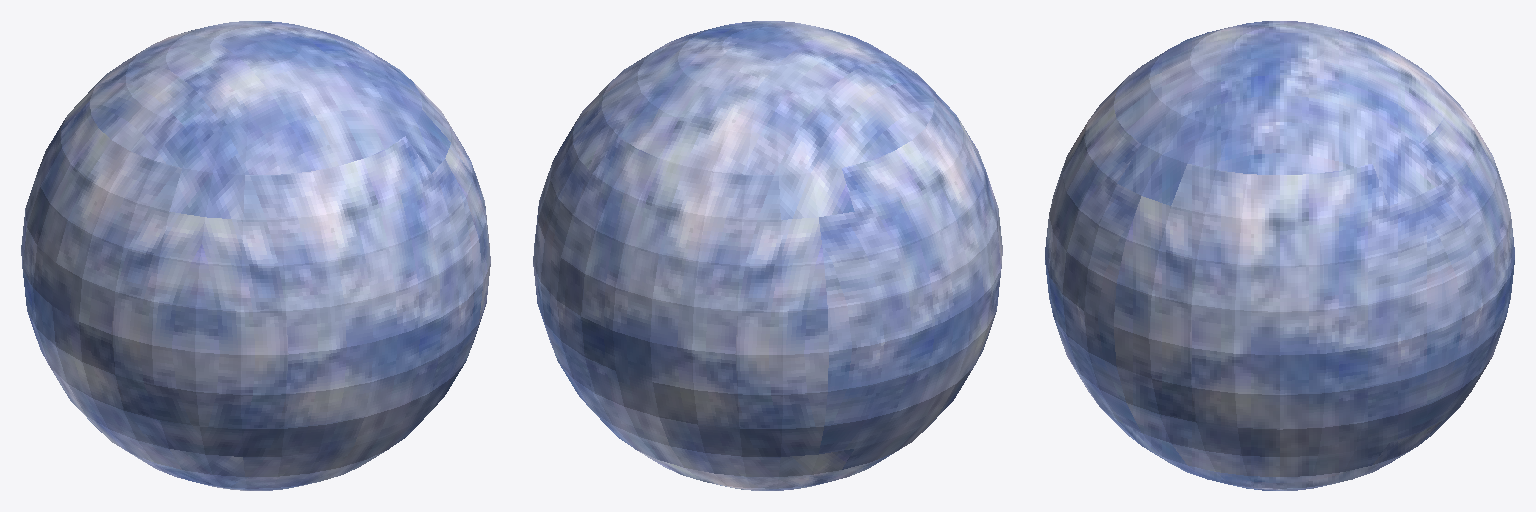
3 views of the same model, side by side, from view 1: azimuth 30°, elevation 25°; view 2: azimuth 150°, elevation 25°; view 3: azimuth 270°, elevation 25° (orthographic).
Parts seen in each view (by area): view 1: cloud_particle; view 2: cloud_particle; view 3: cloud_particle.
Boxes of the visible parts, x1,y1,x2,y2 form: cloud_particle: [21, 21, 490, 490]; cloud_particle: [533, 21, 1002, 490]; cloud_particle: [1045, 21, 1514, 490].
Bounding box in the file's own units: 2 × 2 × 2.
Materials: 1 (1 with a texture image).